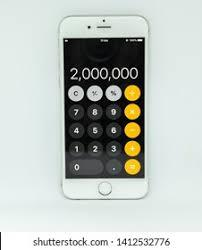Calculator: (60, 63, 148, 195)
